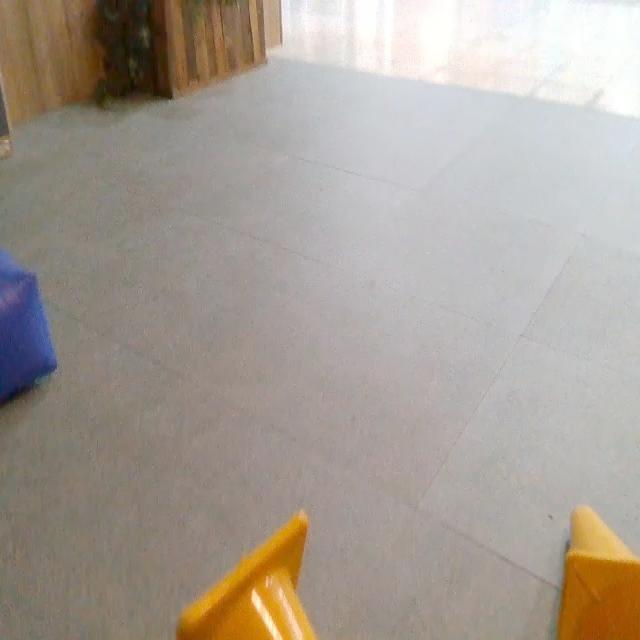cone: (180, 515, 325, 638), (552, 499, 640, 638)
cube: (0, 253, 58, 407)
